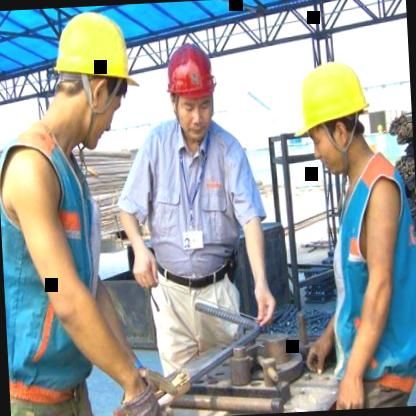helmet: (40, 4, 139, 150), (290, 51, 375, 178), (161, 39, 223, 147)
